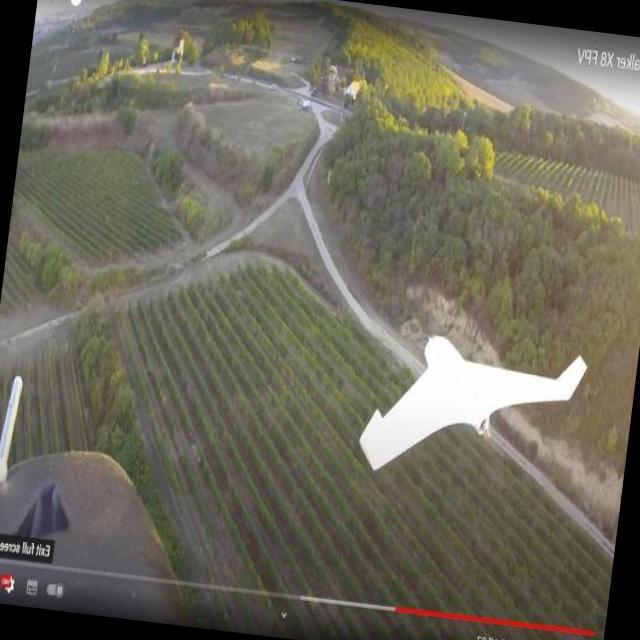UAV: (320, 310, 583, 486)
